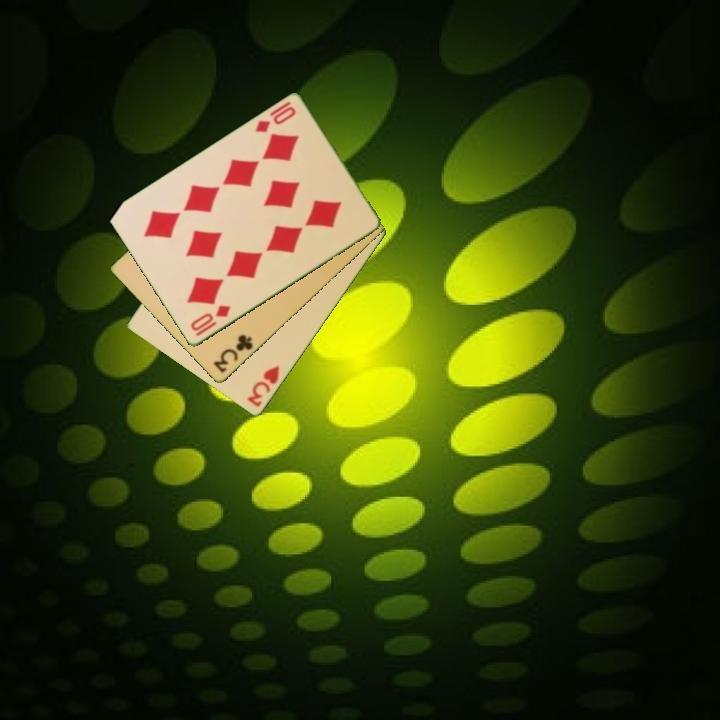10d: (187, 302, 234, 340), (252, 103, 299, 136)
3c: (209, 331, 256, 376)
3h: (244, 363, 283, 411)
